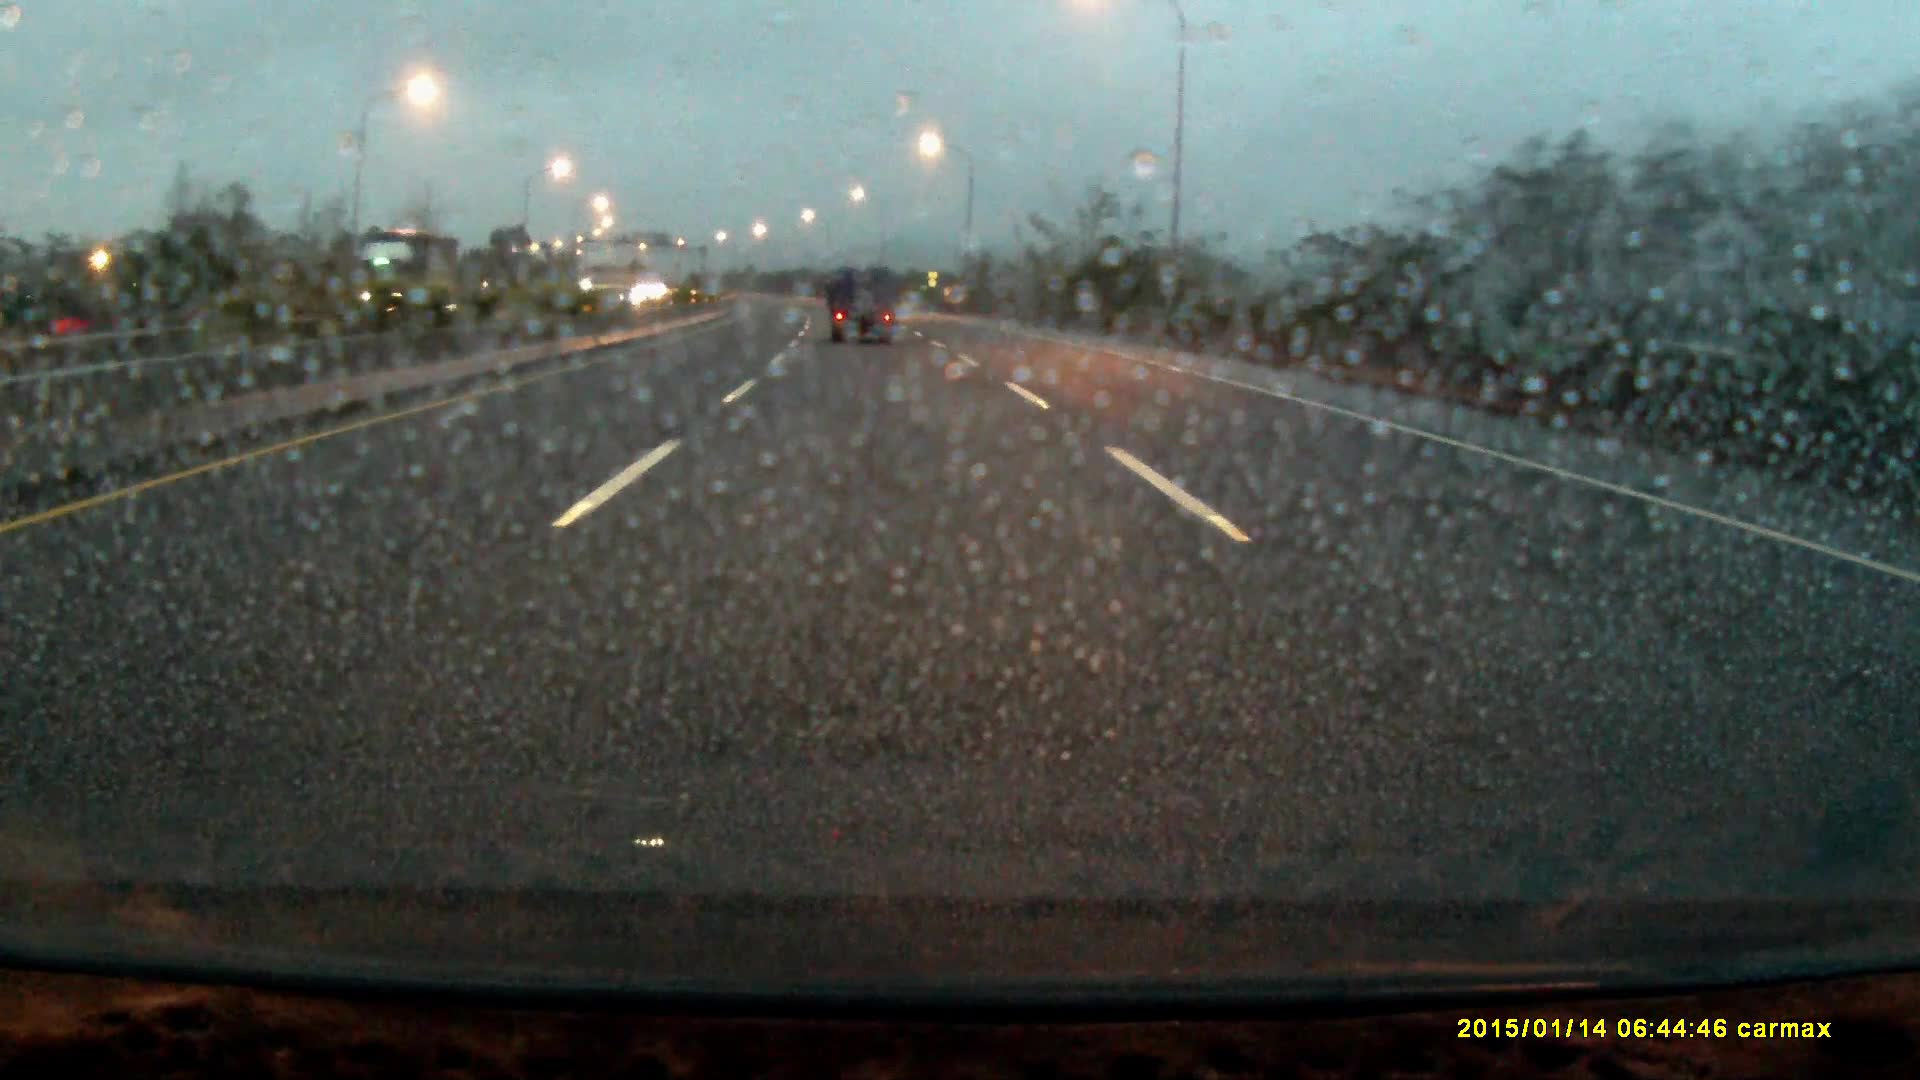vehicle: (338, 233, 477, 338), (829, 274, 901, 349)
